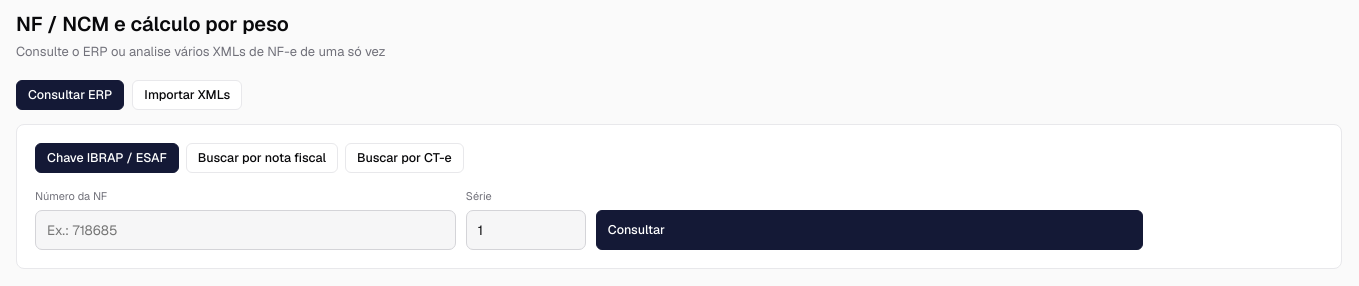
Test case: discards an in-flight response after changing the search type
Type "42" into the field labelled "Número da NF" at (245, 230), box [35,210,456,250]
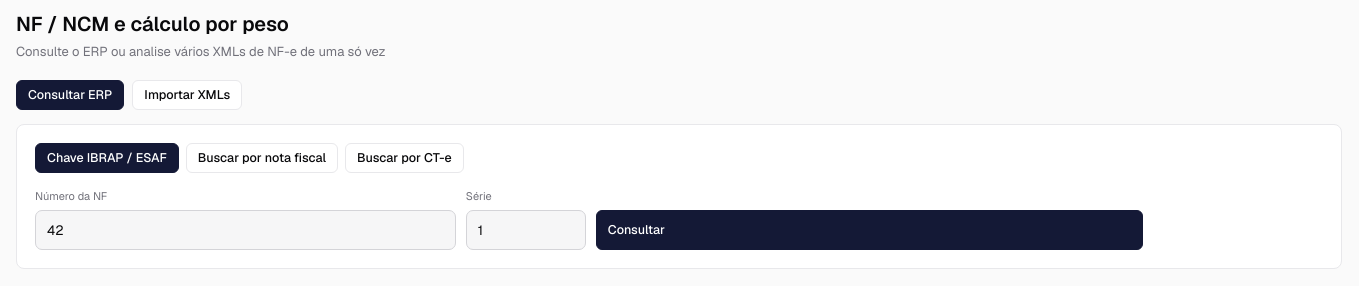
Click the button "Consultar" at (636, 229), box [596,210,1143,250]
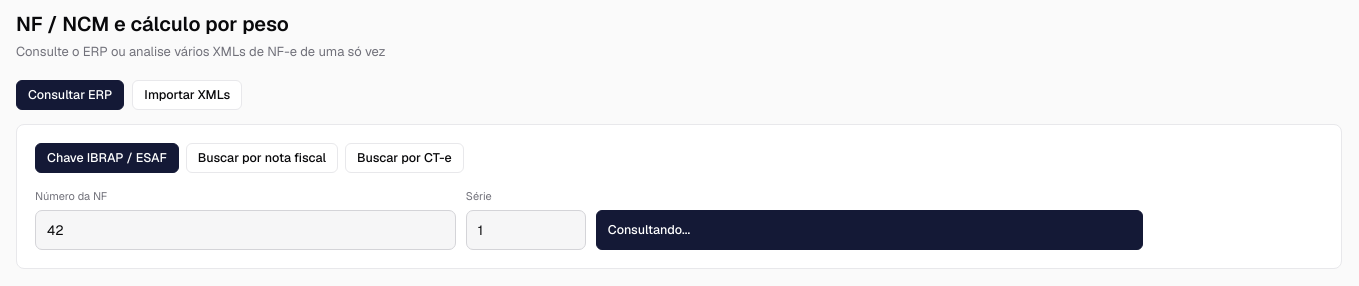
Click the button "Buscar por CT-e" at (404, 158), box [345,143,464,173]
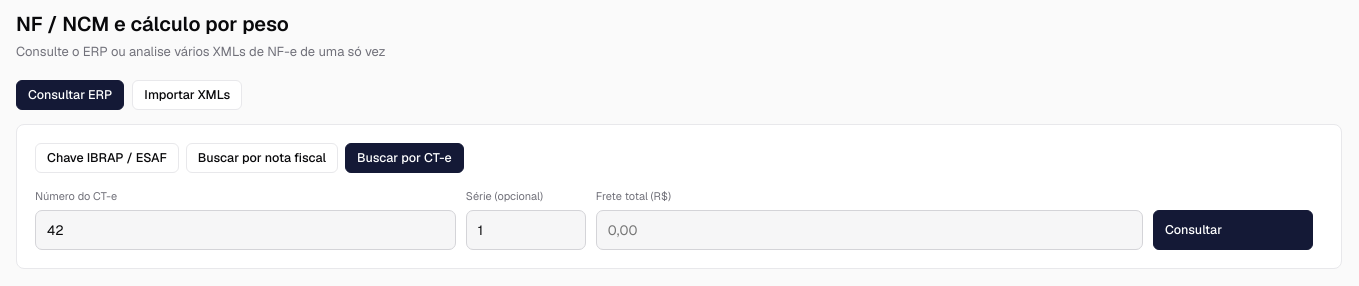
Check: the button "Consultar" is enabled, box [1153,210,1313,250]
